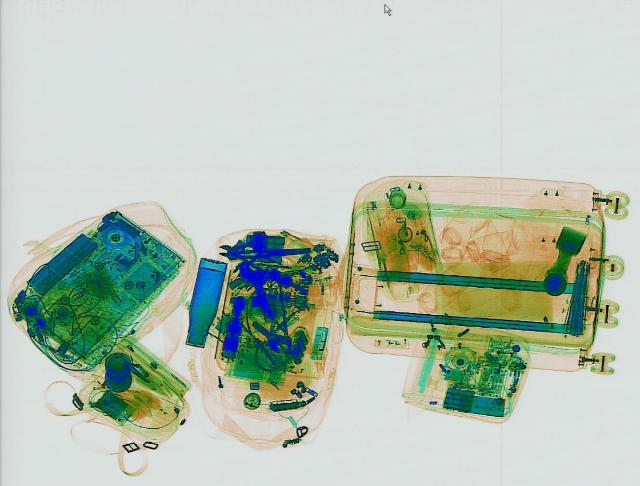Wrench: (242, 315, 300, 355)
